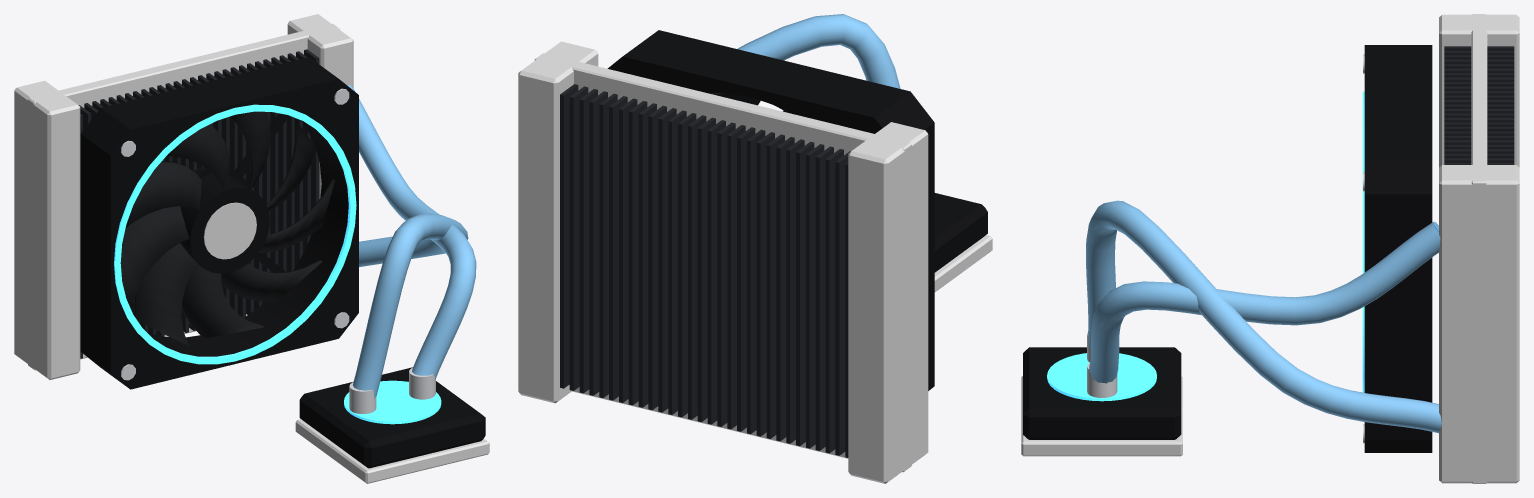
Rendered from hw_cool_aio_liquid.glb.
3 views of the same model, side by side, from view 1: azimuth 30°, elevation 25°; view 2: azimuth 150°, elevation 25°; view 3: azimuth 270°, elevation 25° (orthographic). The views are drawn at different scales.
Parts seen in each view (by area): view 1: Body, Rotor_Z_0, Flow_0, Flow_1; view 2: Body, Flow_1; view 3: Body, Flow_1, Flow_0.
Boxes of the visible parts, x1=… form: Body: x1=14, y1=14, x2=489, y2=483; Rotor_Z_0: x1=120, y1=111, x2=334, y2=345; Flow_0: x1=347, y1=85, x2=476, y2=379; Flow_1: x1=353, y1=213, x2=468, y2=398; Body: x1=518, y1=30, x2=992, y2=483; Flow_1: x1=737, y1=14, x2=900, y2=88; Body: x1=1021, y1=14, x2=1519, y2=483; Flow_1: x1=1086, y1=200, x2=1441, y2=433; Flow_0: x1=1089, y1=221, x2=1440, y2=383.
Size of the model in its own units: 0.1705 by 0.124 by 0.185.
